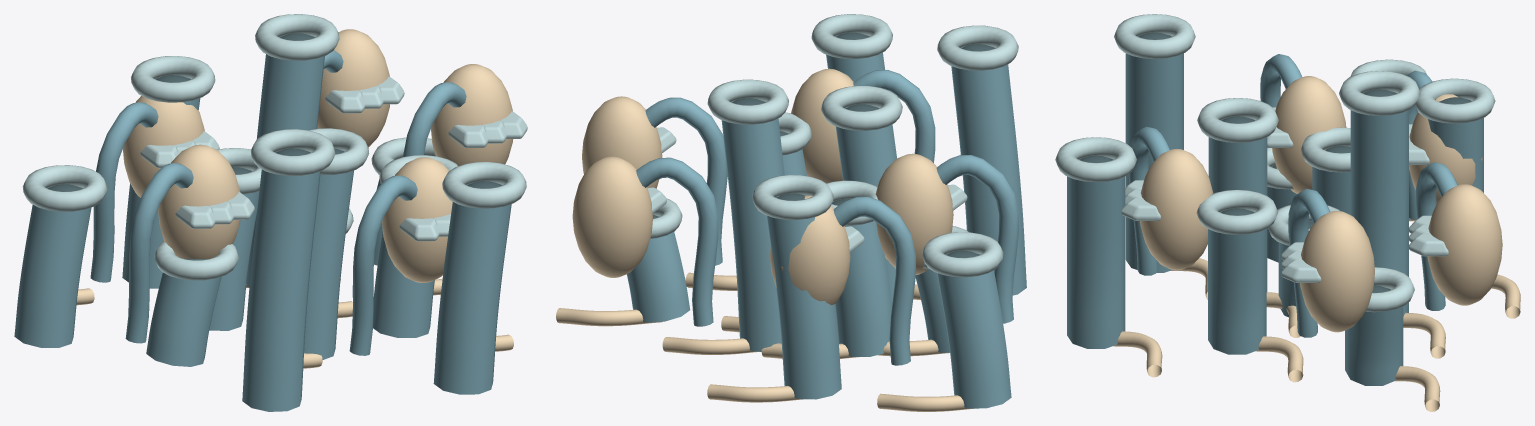
The model's file is bio_thermal_colony_08_near.glb.
3 renders of one model, left to right at view 1: azimuth 30°, elevation 25°; view 2: azimuth 150°, elevation 25°; view 3: azimuth 270°, elevation 25°, orthographic. The views are drawn at different scales.
Visible parts, largest first — view 1: Chimney biofilm.007, Chimney biofilm.010, Chimney biofilm.009, Chimney biofilm.002, Pendant spore capsule.004, Pendant spore capsule.002, Chimney biofilm.004, Pendant spore capsule, Pendant spore capsule.003, Chimney biofilm.003, Arched fruit stem.002, Arched fruit stem.004 (+21 smaller); view 2: Chimney biofilm.003, Chimney biofilm.007, Chimney biofilm.006, Pendant spore capsule.003, Chimney biofilm.009, Chimney biofilm.001, Pendant spore capsule.004, Pendant spore capsule.001, Arched fruit stem.003, Arched fruit stem.001, Pendant spore capsule, Chimney biofilm.008 (+23 smaller); view 3: Chimney biofilm.010, Chimney biofilm.003, Chimney biofilm.005, Pendant spore capsule.003, Pendant spore capsule, Pendant spore capsule.002, Chimney biofilm.007, Pendant spore capsule.004, Chimney biofilm.008, Chimney biofilm.002, Open vent rim.002, Open vent rim.003 (+28 smaller).
Part boxes in pixels (x1,y1,x2,y2): Chimney biofilm.007: (242, 151, 320, 411); Chimney biofilm.010: (433, 183, 511, 394); Chimney biofilm.009: (14, 186, 91, 347); Chimney biofilm.002: (304, 150, 353, 359); Pendant spore capsule.004: (158, 144, 240, 259); Pendant spore capsule.002: (382, 157, 452, 282); Chimney biofilm.004: (146, 272, 221, 366); Pendant spore capsule: (431, 64, 513, 165); Pendant spore capsule.003: (317, 29, 389, 147); Chimney biofilm.003: (246, 35, 324, 287); Arched fruit stem.002: (349, 175, 417, 355); Arched fruit stem.004: (125, 163, 193, 343); Chimney biofilm.003: (721, 101, 784, 351); Chimney biofilm.007: (951, 46, 1026, 295); Chimney biofilm.006: (767, 196, 841, 399); Pendant spore capsule.003: (572, 156, 652, 277); Chimney biofilm.009: (937, 252, 1011, 408); Chimney biofilm.001: (833, 201, 891, 356); Pendant spore capsule.004: (875, 153, 953, 274); Pendant spore capsule.001: (770, 195, 850, 304); Arched fruit stem.003: (636, 157, 718, 326); Arched fruit stem.001: (833, 196, 915, 365); Pendant spore capsule: (582, 96, 662, 188); Chimney biofilm.008: (627, 215, 690, 322); Chimney biofilm.010: (1067, 158, 1125, 348); Chimney biofilm.003: (1350, 92, 1408, 316); Chimney biofilm.005: (1208, 211, 1266, 354); Pendant spore capsule.003: (1427, 184, 1502, 305); Pendant spore capsule: (1300, 211, 1374, 332); Pendant spore capsule.002: (1140, 149, 1213, 270); Chimney biofilm.007: (1125, 35, 1183, 272); Pendant spore capsule.004: (1272, 76, 1346, 193); Chimney biofilm.008: (1345, 288, 1403, 385); Chimney biofilm.002: (1208, 119, 1267, 291); Open vent rim.002: (1197, 98, 1278, 142); Open vent rim.003: (1339, 71, 1420, 115).
Bounding box in the file's own units: 1.76 × 0.9495 × 1.59.
